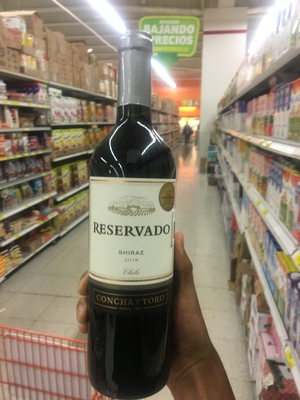reservado shiraz: (90, 50, 183, 375)
